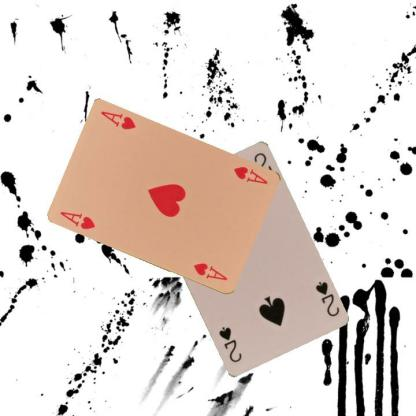2s: (313, 278, 340, 318)
Ah: (57, 208, 97, 230), (231, 164, 269, 186)
